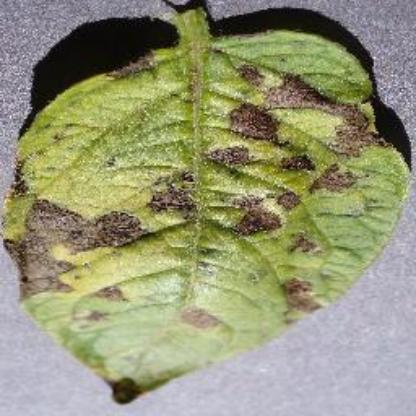Early-Blight: (2, 0, 415, 406)
